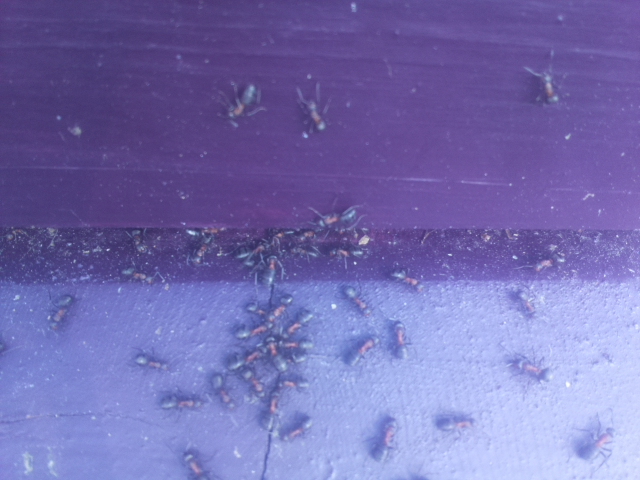ant: (236, 288, 298, 344), (518, 53, 571, 106), (220, 71, 265, 129), (289, 80, 331, 139), (568, 418, 621, 464), (498, 348, 558, 383), (366, 416, 405, 467), (303, 204, 361, 236), (208, 363, 241, 417), (171, 446, 222, 480), (44, 287, 77, 337), (339, 280, 375, 322), (184, 224, 220, 266), (260, 335, 293, 378), (344, 335, 381, 368), (236, 362, 267, 399), (384, 266, 426, 292), (391, 314, 411, 366), (284, 306, 315, 338), (122, 224, 151, 258), (156, 392, 204, 412), (523, 71, 565, 93), (432, 412, 475, 432), (116, 264, 151, 285), (131, 353, 167, 372)
